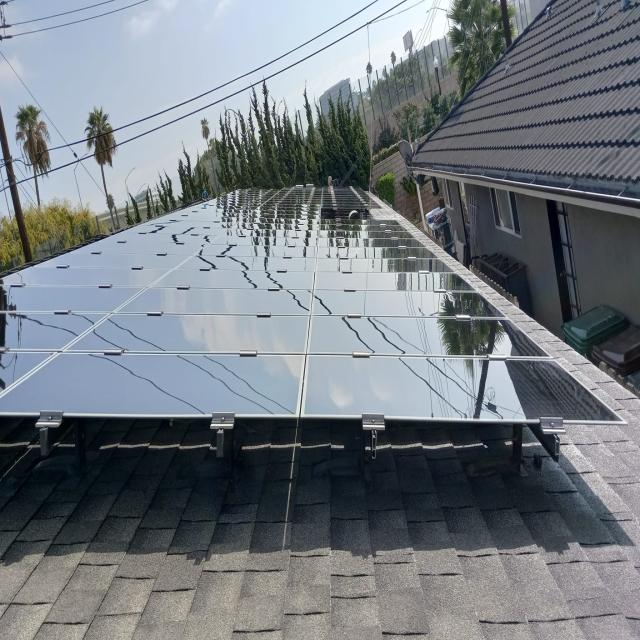clean-solar-panel: (1, 187, 614, 422)
